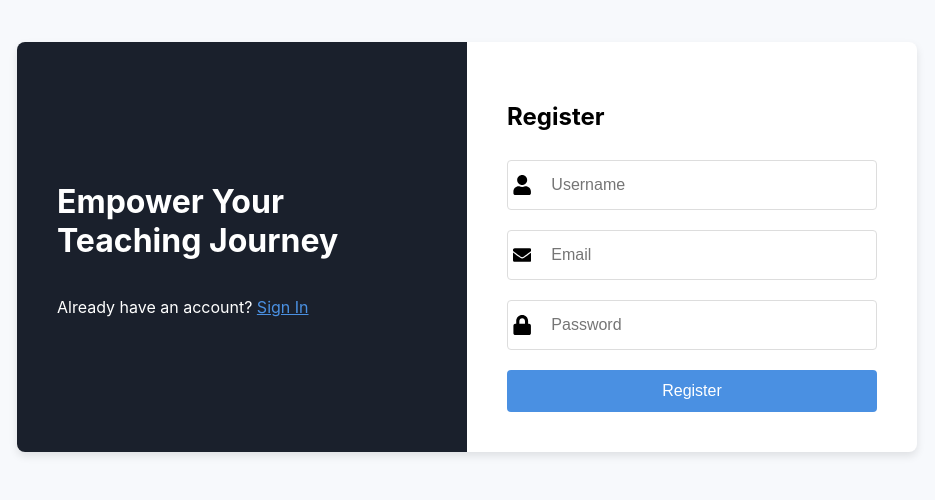
Test: FacultyRegister › displays error message on registration failure
// Simulate user input
Type "testuser" into the field with placeholder "Username" at (706, 185), box left=541, top=166, right=871, bottom=204
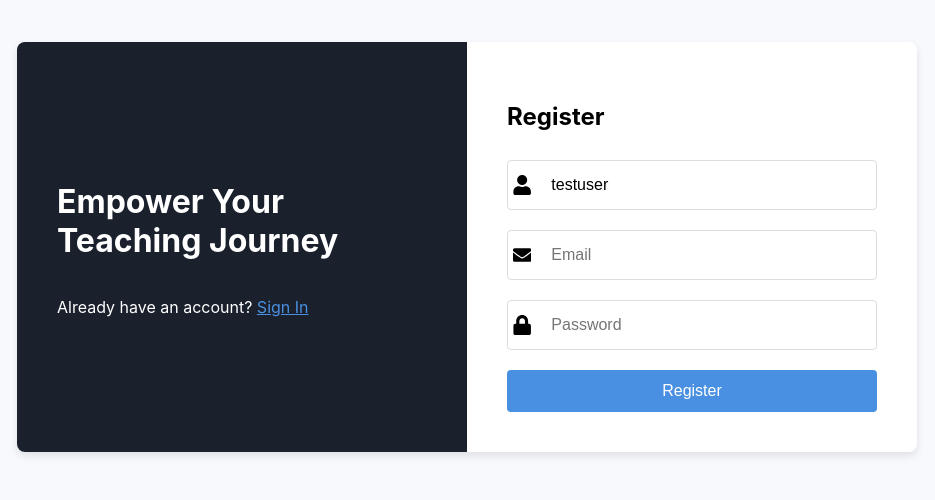
Type "test@example.com" into the field with placeholder "Email" at (706, 255), box left=541, top=236, right=871, bottom=274
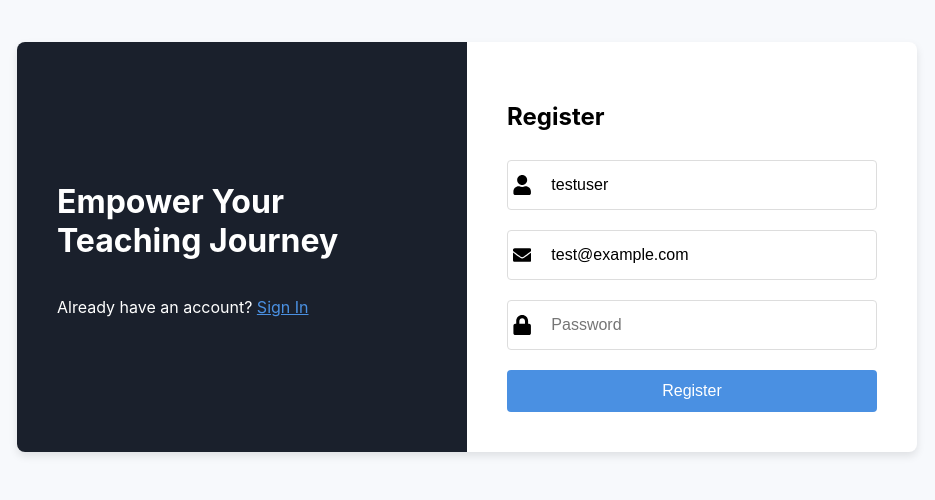
Type "Password1!" into the password field with placeholder "Password" at (706, 325), box left=541, top=306, right=871, bottom=344
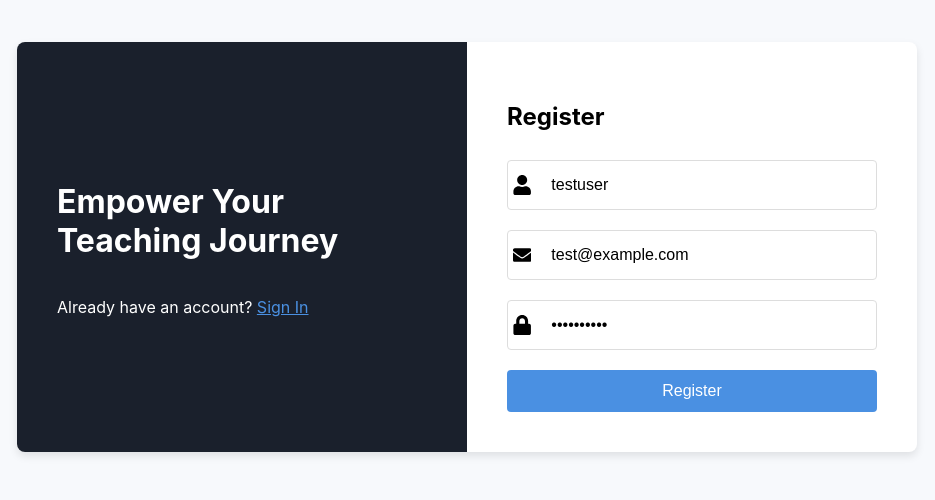
// Simulate form submission
Click the button "Register" at (692, 391), box left=507, top=370, right=877, bottom=412
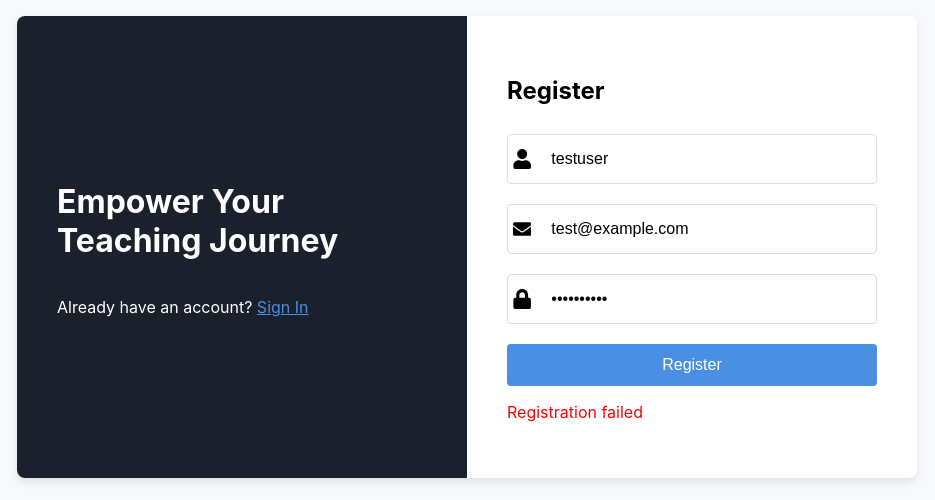
Check: the text "Registration failed" is shown, box left=507, top=402, right=643, bottom=422
